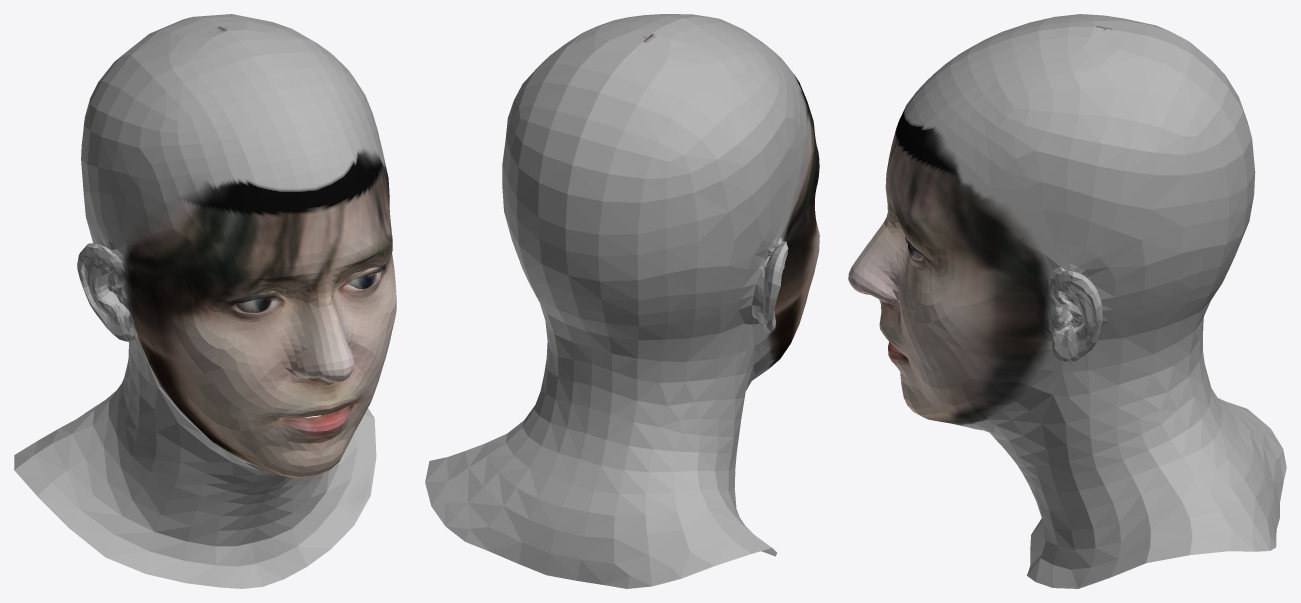
File: kjwanger-align-project.obj
3 views of the same model, side by side, from view 1: azimuth 30°, elevation 25°; view 2: azimuth 150°, elevation 25°; view 3: azimuth 270°, elevation 25° (orthographic).
Size of the model in its own units: 0.2118 by 0.3241 by 0.2396.
Materials: 1 (1 with a texture image).
